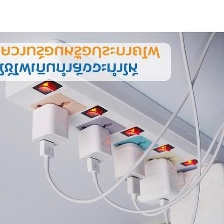three_eye_plug: (2, 36, 223, 199)
